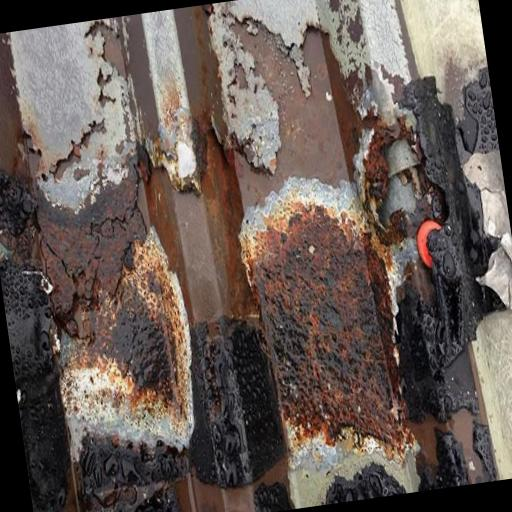segmentation: (39, 151, 194, 472), (255, 206, 405, 447), (0, 169, 70, 512), (149, 129, 255, 321), (236, 31, 348, 207), (321, 34, 360, 175), (174, 5, 217, 128), (0, 33, 27, 176), (356, 149, 389, 227)
